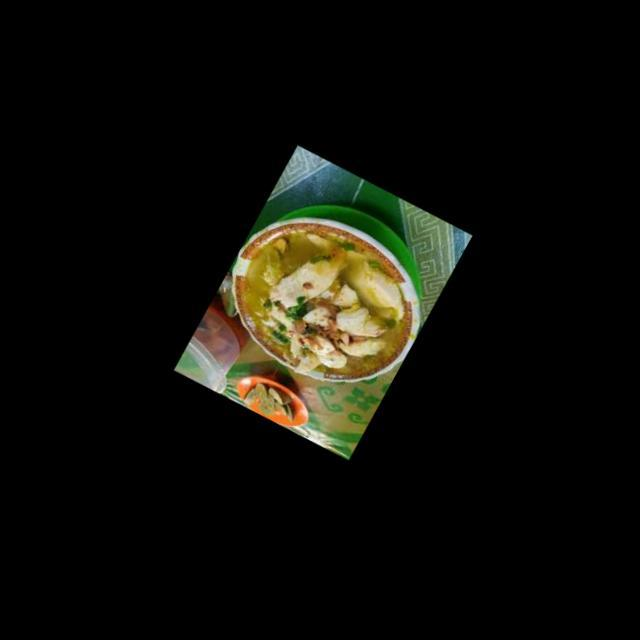Soto: (230, 218, 413, 382)
